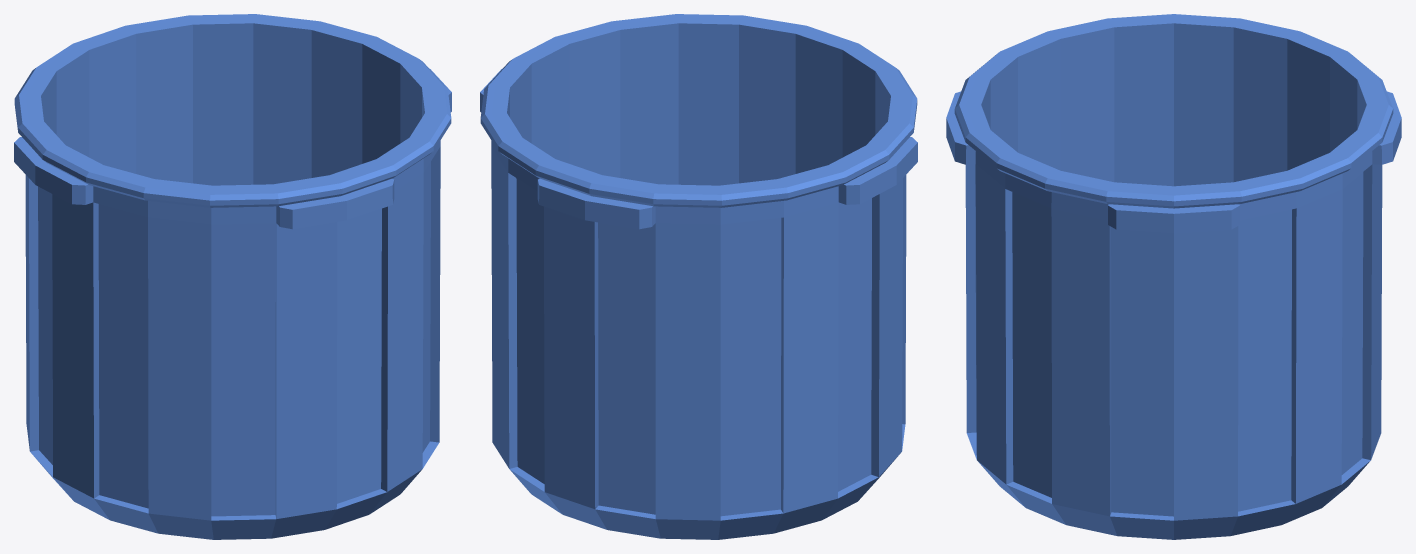
The model's file is gomibako.fbx.
The picture shows the model from 3 angles, left to right: view 1: azimuth 30°, elevation 25°; view 2: azimuth 150°, elevation 25°; view 3: azimuth 270°, elevation 25°; orthographic projection.
Visible parts, largest first — view 1: pCylinder4; view 2: pCylinder4; view 3: pCylinder4.
Boxes of the visible parts, x1,y1,x2,y2 form: pCylinder4: (14,14,451,539); pCylinder4: (480,14,917,539); pCylinder4: (946,14,1401,539).
Bounding box in the file's own units: 2.58 × 2.24 × 2.58.
